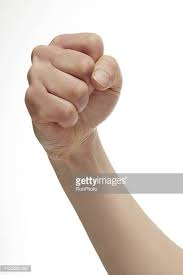fist: (23, 32, 125, 149)
